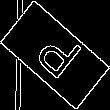P_SW: (26, 24, 84, 86)
